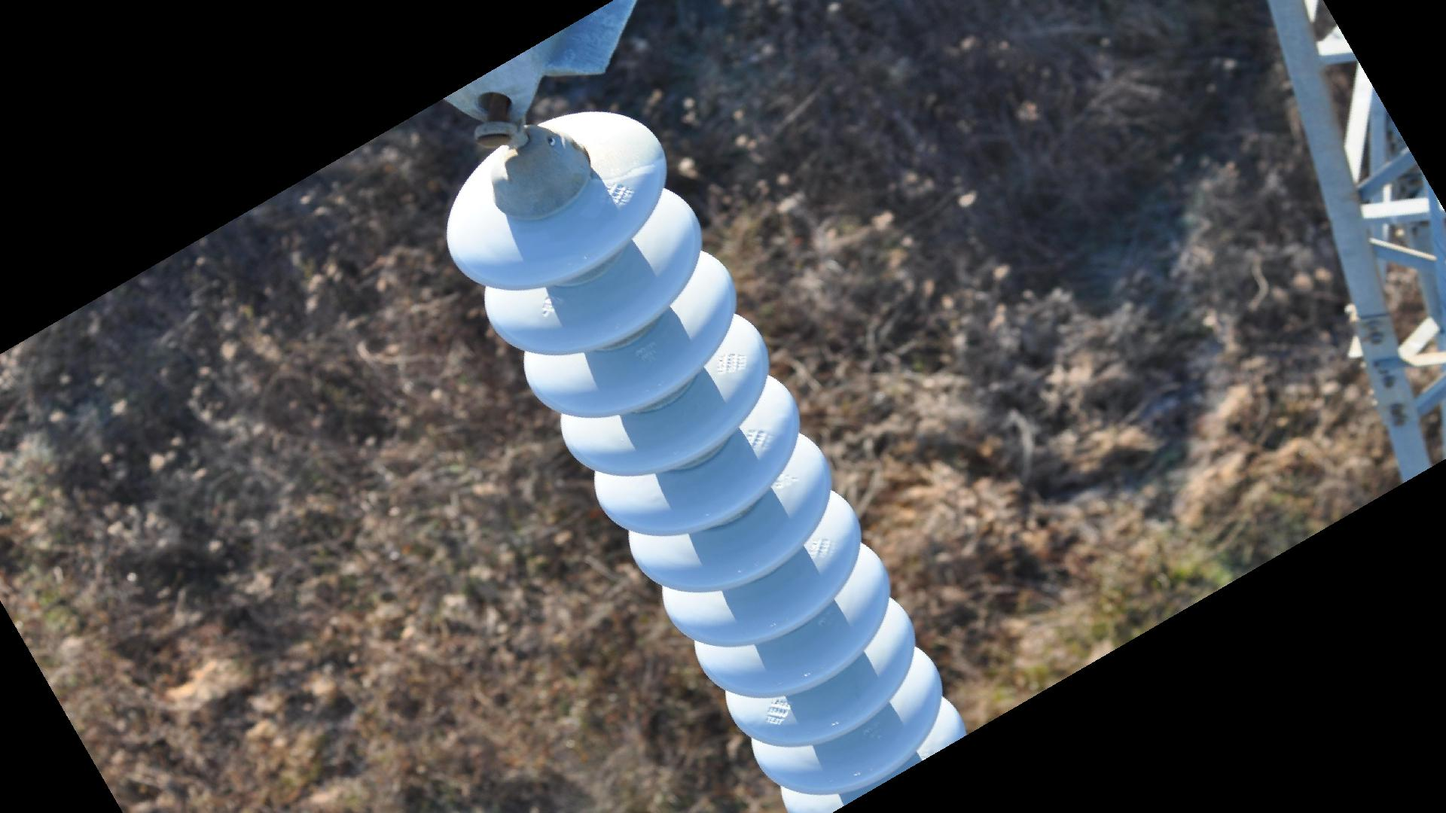insulator: (438, 107, 974, 813)
insulator_flashover: (580, 115, 664, 181)
